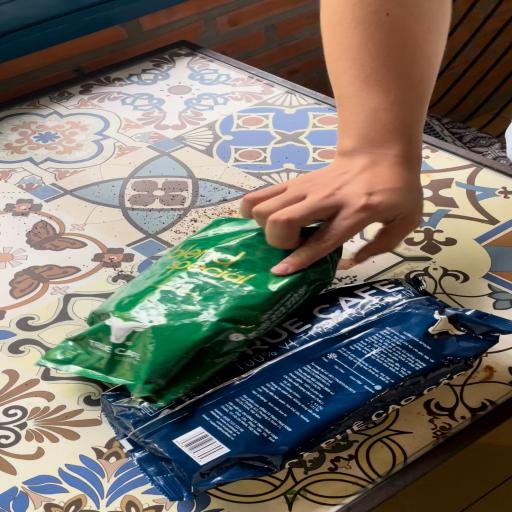cafe_hat: (101, 278, 512, 501)
cafe_xay: (37, 218, 342, 406)
